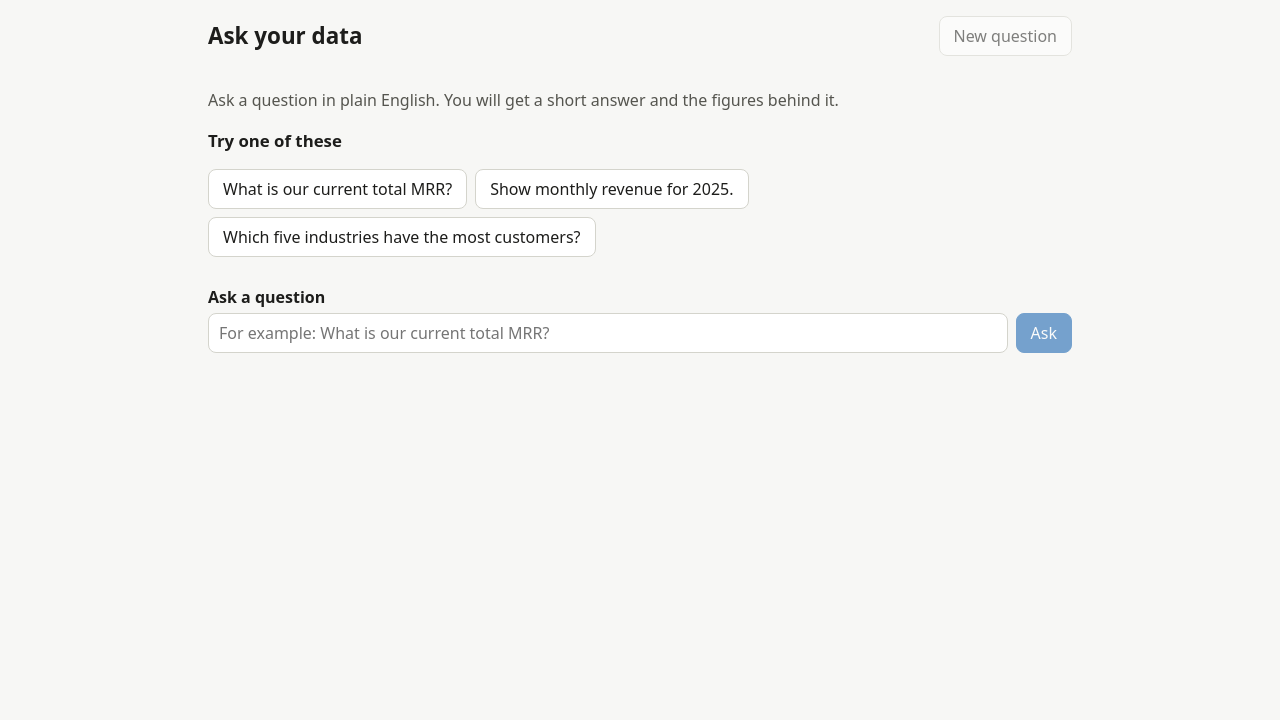
Scenario: clarifying › asks the choice back as a new question
The width and height of the screenshot is (1280, 720).
Type "How much revenue last month?" into the field labelled "Ask a question" at {"x": 608, "y": 333}, box [208,313,1008,353]
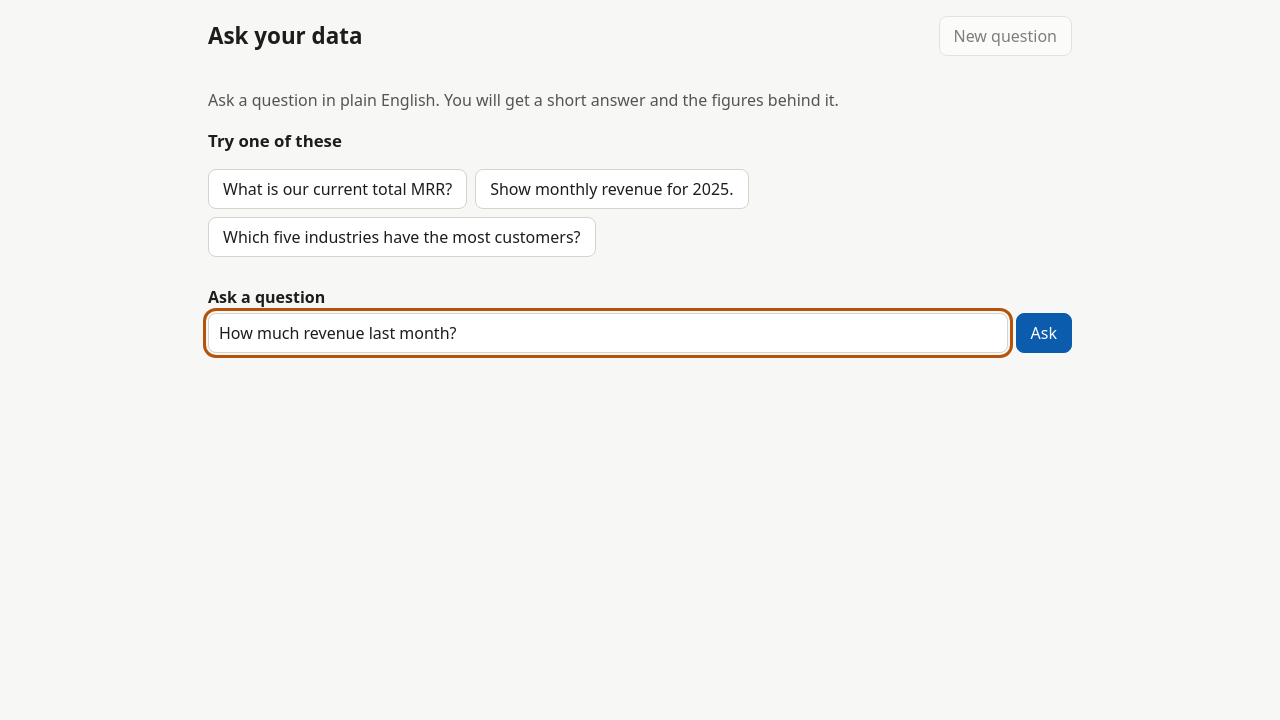
Click the button "Ask" at {"x": 1044, "y": 333}, box [1016,313,1072,353]
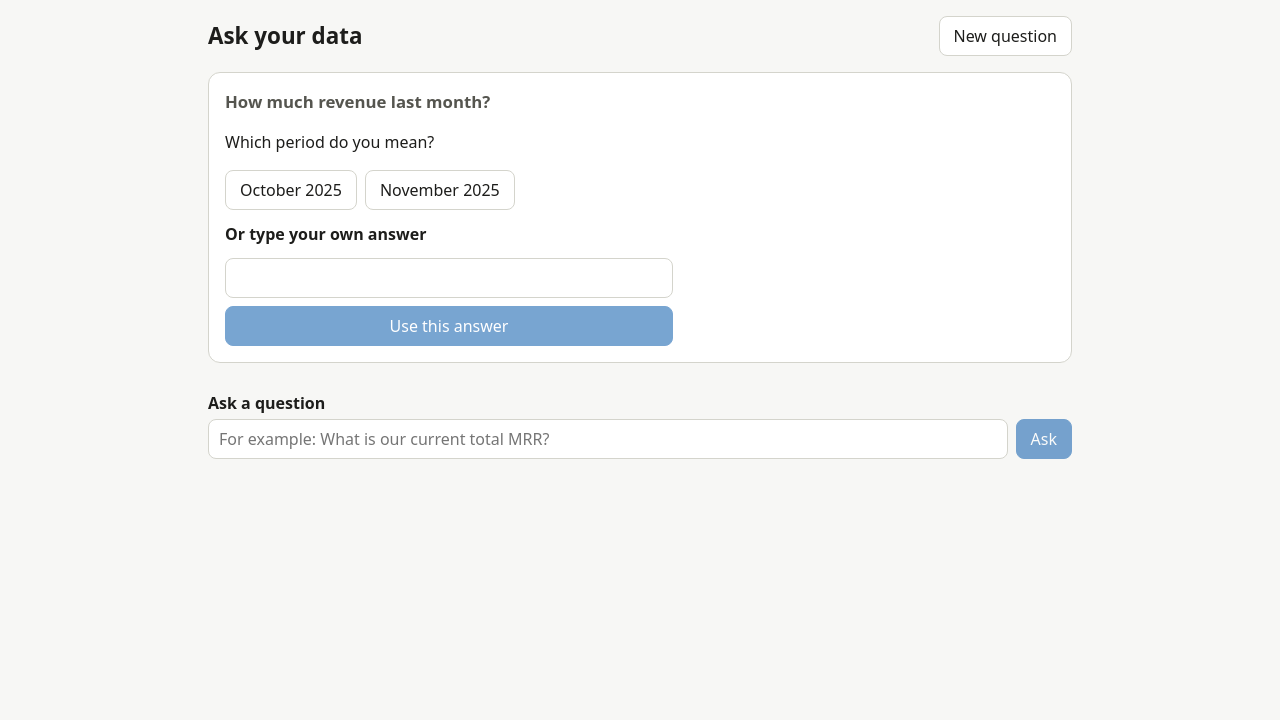
Result: the text "Which period do you mean?" is shown at [225,131,434,153]
Click the button "November 2025" at {"x": 440, "y": 190}, box [365,170,515,210]
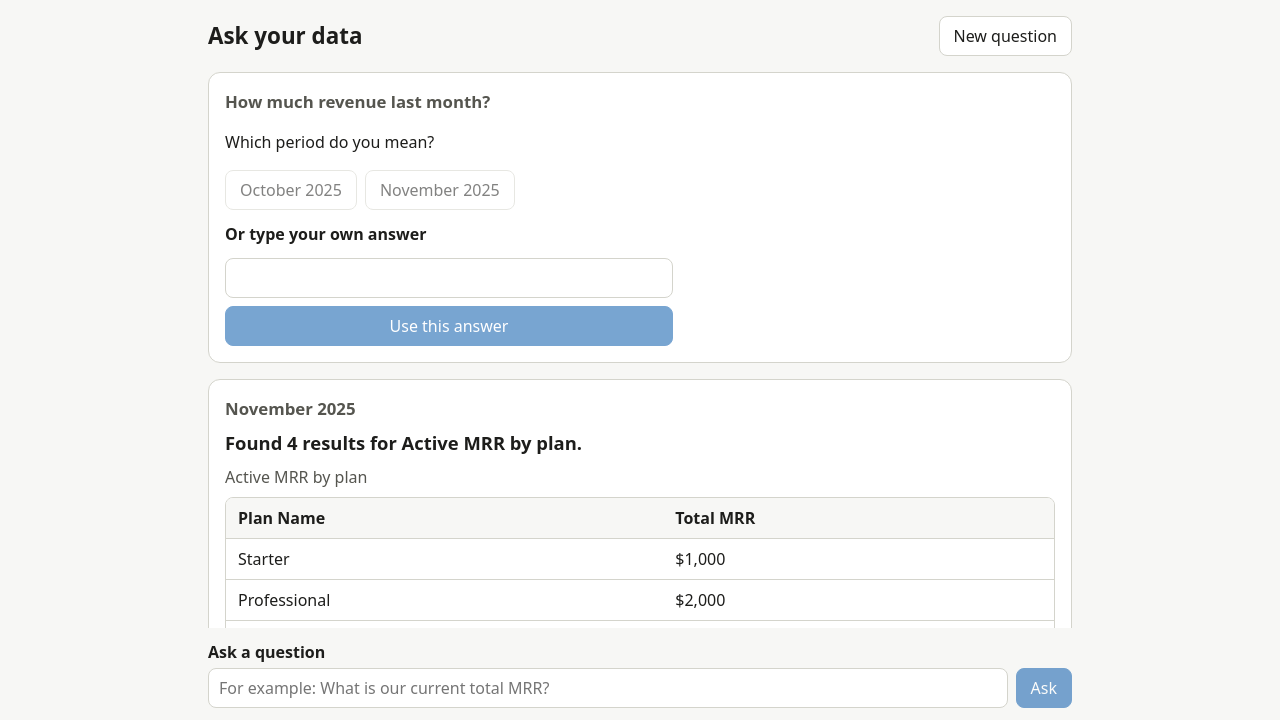
Result: the table is shown at [226,498,1054,703]
